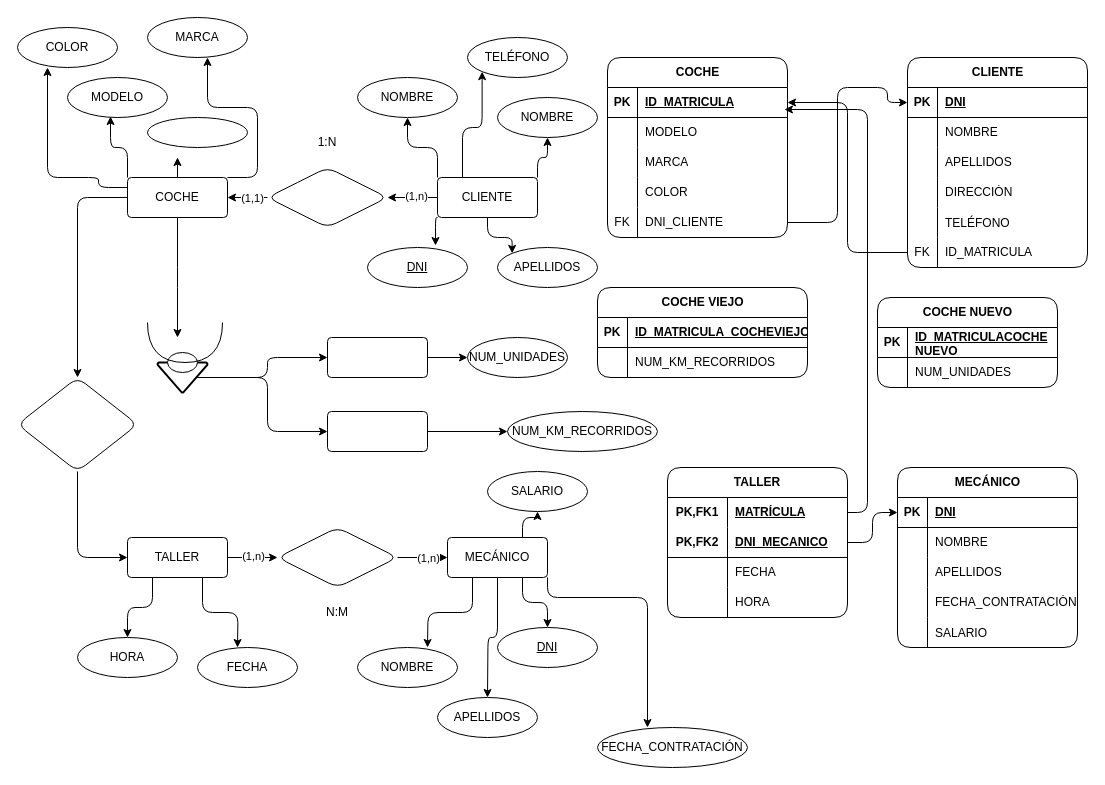
This 1105x785 diagram has some shape labels left out. The shapes that lost their labels are listed below. From the top down, each one's box as (x1, y1, x2, y2) in pixels, then its label:
(146, 116, 248, 148): ID_MATRÍCULA
(266, 166, 388, 228): COMPRA
(326, 336, 428, 378): NUEVOS
(16, 376, 138, 472): PUEDE NECESITAR IR AL
(326, 410, 428, 452): VIEJOS
(276, 526, 398, 588): REPARA
